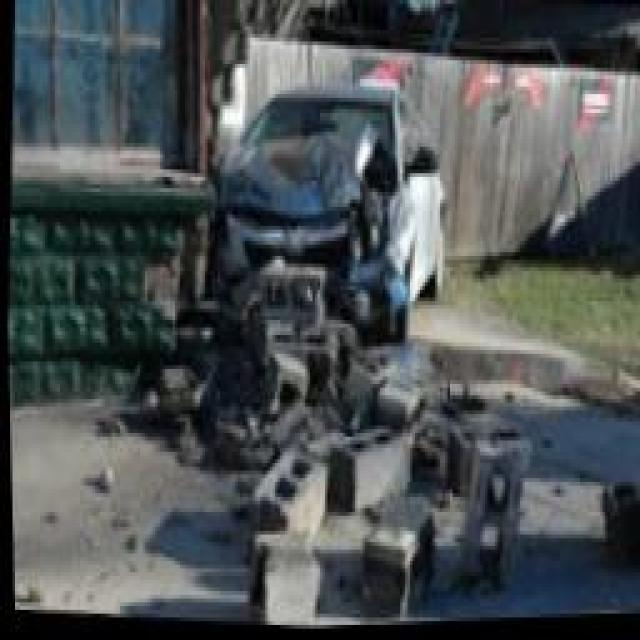Bonnet: (226, 138, 396, 226)
Bumper: (212, 239, 403, 323)
Light: (363, 204, 393, 249)
